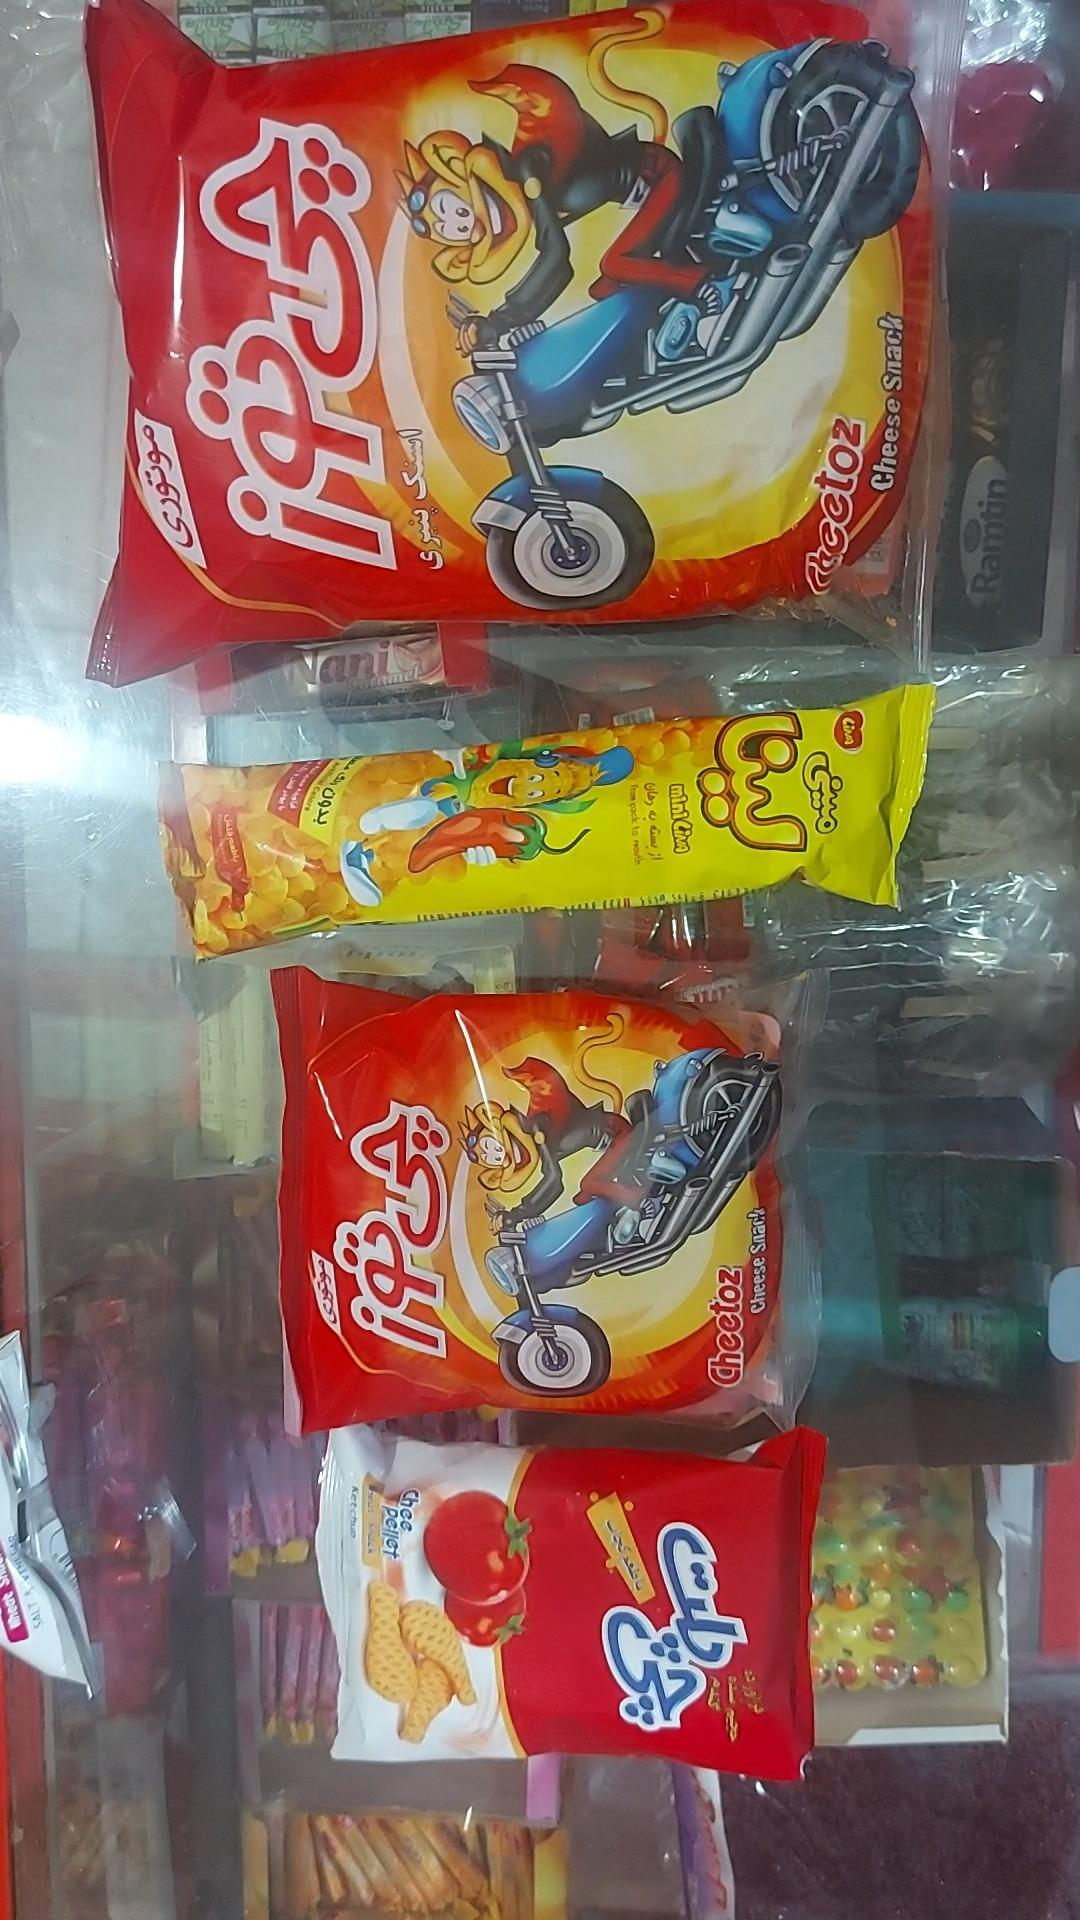Chee pellet ketchup: (314, 1425, 828, 1785)
Cheetoz snack 30g: (273, 959, 855, 1437)
Cheetoz snack 90g: (84, 0, 973, 690)
Mini Lina: (157, 684, 938, 963)
